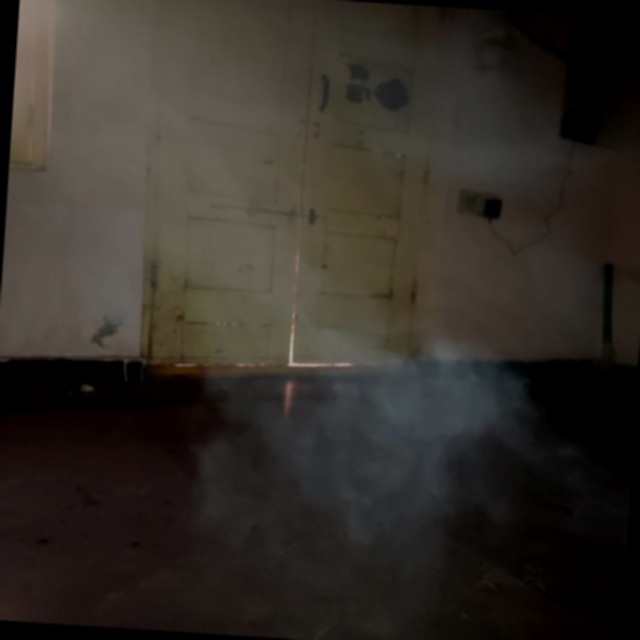smoke: (249, 279, 532, 527)
